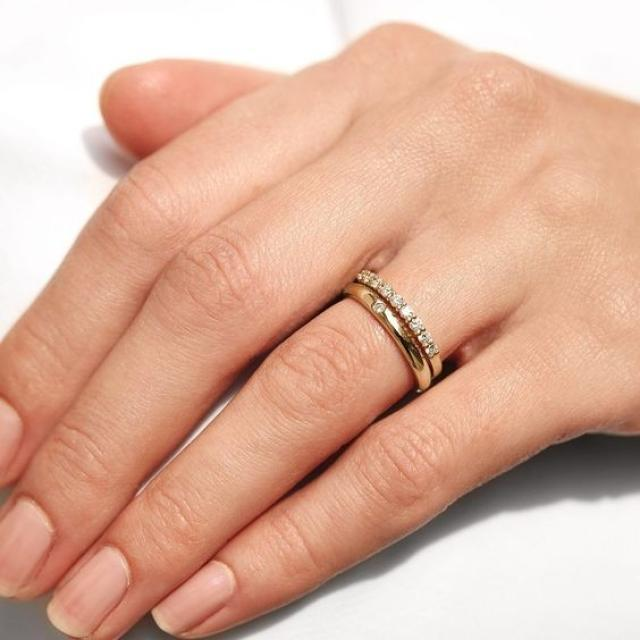Fingernail: (47, 545, 130, 638), (153, 561, 237, 637)
